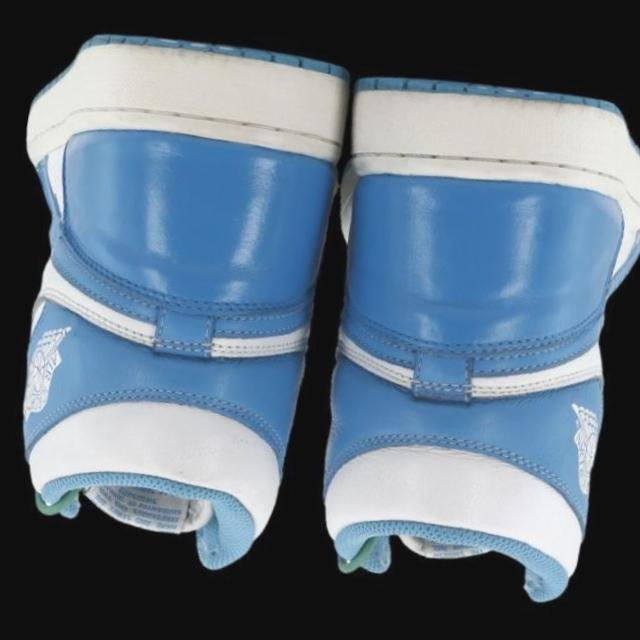nike_original_jordan: (0, 7, 373, 590), (274, 49, 640, 627)
